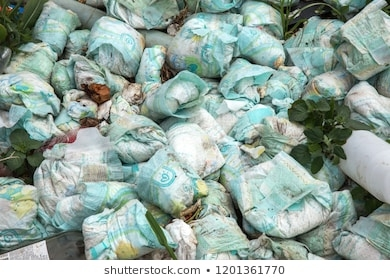paper: (227, 149, 337, 240), (165, 10, 254, 80), (132, 144, 213, 219), (51, 171, 145, 233), (79, 197, 171, 260), (138, 66, 217, 129), (229, 101, 309, 160), (173, 209, 260, 260), (158, 119, 228, 182), (332, 8, 390, 82), (100, 102, 170, 162), (85, 12, 144, 79), (1, 171, 48, 250), (297, 64, 358, 117), (1, 70, 63, 121), (29, 1, 88, 54), (343, 77, 390, 136), (231, 23, 290, 68), (7, 38, 60, 86)
